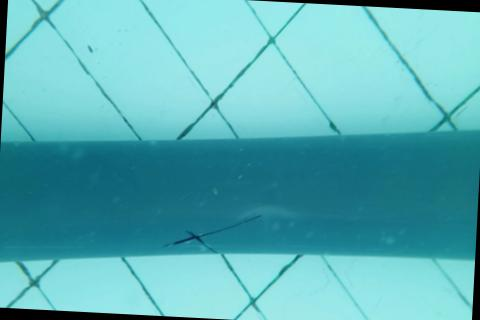keretakan: (163, 209, 264, 259)
